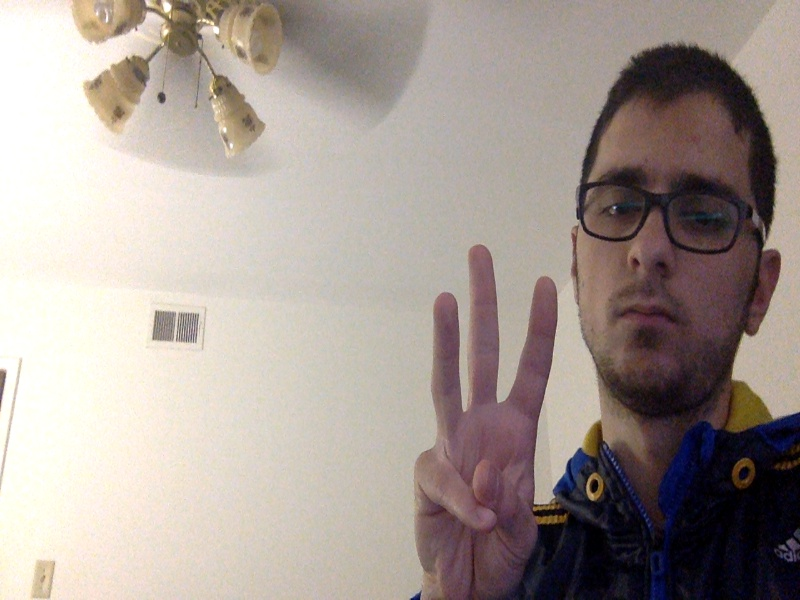3-hand: (414, 243, 561, 593)
